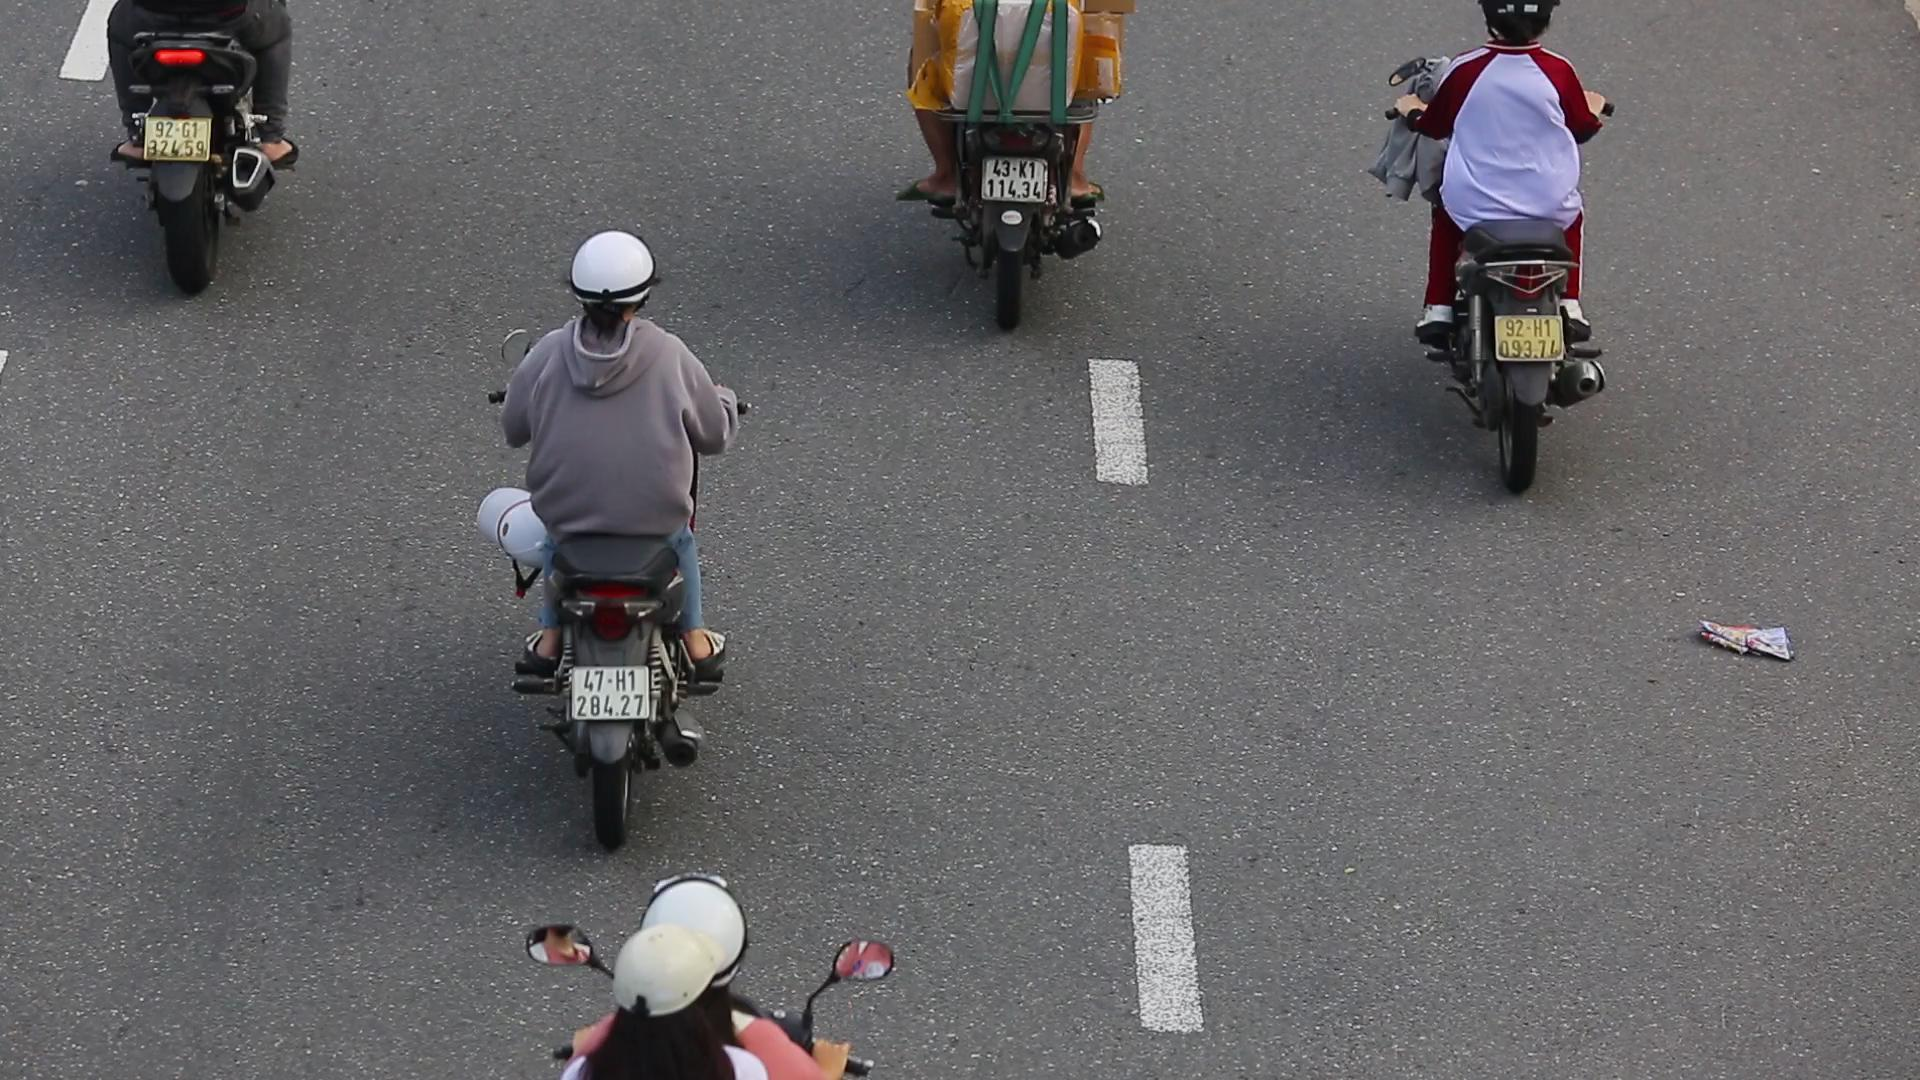motobike: (468, 231, 745, 847)
